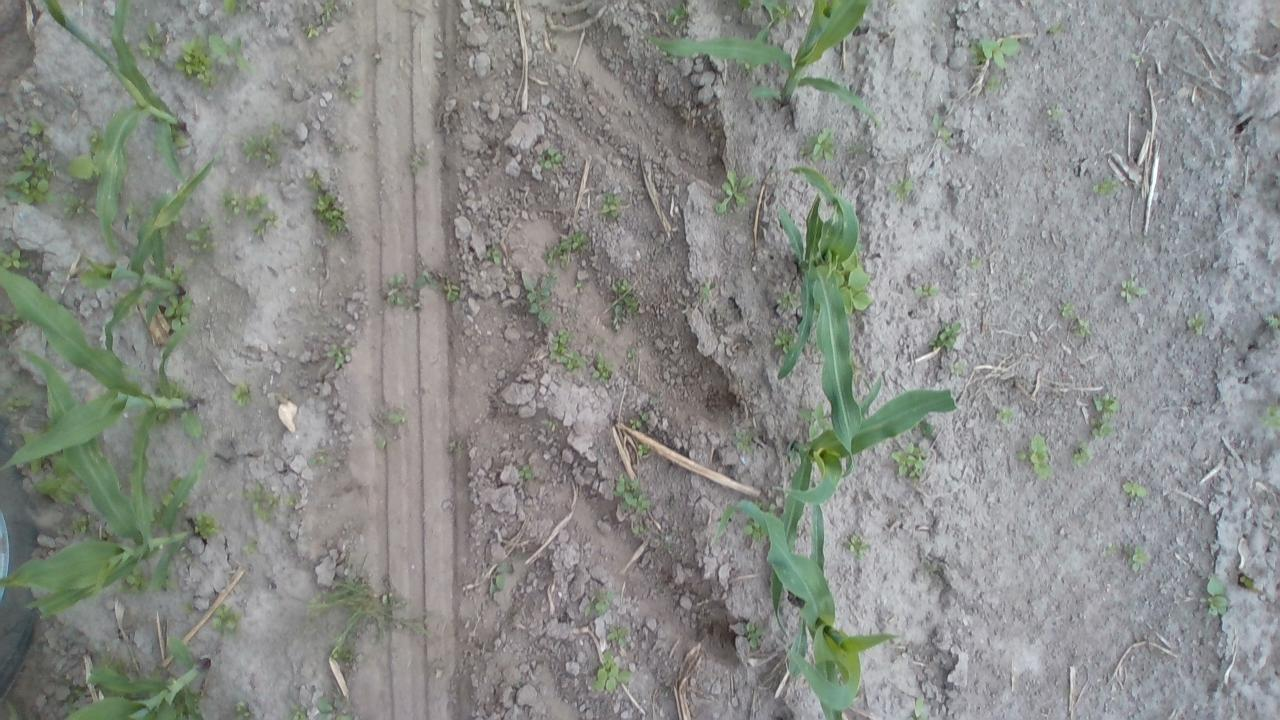Maize: (770, 266, 960, 638), (1, 268, 206, 535), (2, 346, 201, 621), (718, 499, 898, 720), (44, 0, 190, 252), (74, 157, 218, 369), (652, 0, 876, 124), (776, 166, 861, 382), (66, 640, 213, 720), (3, 699, 23, 720)
Weeds: (301, 569, 443, 666), (4, 146, 53, 209), (386, 269, 460, 308), (612, 476, 654, 534), (308, 170, 346, 231), (736, 0, 790, 42), (31, 466, 82, 510), (839, 254, 874, 316), (246, 480, 294, 524), (520, 270, 557, 327), (606, 276, 643, 332), (1018, 430, 1057, 483), (175, 38, 213, 86), (542, 230, 590, 268), (242, 122, 282, 166), (717, 170, 753, 216), (550, 328, 586, 373), (888, 440, 926, 481), (596, 650, 632, 692), (968, 36, 1018, 66), (210, 33, 248, 70), (1087, 395, 1118, 438), (138, 20, 168, 64), (374, 408, 405, 450), (805, 126, 839, 164), (66, 153, 104, 186), (798, 402, 832, 436), (184, 223, 217, 258), (581, 590, 617, 622), (1204, 572, 1229, 618), (1, 385, 34, 419), (732, 620, 765, 652), (934, 320, 967, 350), (168, 298, 194, 334), (845, 535, 876, 565), (317, 695, 354, 720), (208, 603, 238, 633), (1118, 277, 1150, 305), (1256, 396, 1280, 432), (1128, 542, 1156, 572), (192, 512, 220, 542), (991, 399, 1024, 424), (324, 344, 352, 373), (488, 560, 509, 598), (59, 194, 88, 221), (735, 427, 759, 457), (592, 352, 614, 382), (931, 111, 953, 141), (602, 193, 626, 219), (230, 382, 254, 408), (543, 146, 566, 172), (1090, 178, 1122, 196), (252, 216, 278, 238), (1182, 308, 1208, 330), (0, 310, 20, 338), (1119, 481, 1150, 499), (664, 2, 689, 24), (233, 698, 258, 720), (245, 195, 273, 214), (409, 148, 428, 176), (318, 2, 342, 24), (1070, 318, 1094, 340), (892, 176, 914, 200), (772, 327, 792, 353), (1074, 444, 1098, 465), (164, 262, 188, 283), (778, 289, 798, 314), (2, 245, 23, 268), (741, 523, 765, 542), (607, 627, 635, 642), (69, 516, 90, 536), (1043, 105, 1065, 124), (916, 283, 942, 299), (346, 82, 370, 99), (910, 695, 926, 720), (124, 574, 144, 594), (123, 200, 142, 221), (224, 191, 242, 212), (242, 538, 263, 556), (28, 117, 50, 133), (1046, 20, 1064, 39), (216, 0, 240, 14), (302, 21, 318, 41), (68, 686, 84, 705), (307, 452, 328, 466), (736, 60, 760, 72), (486, 246, 500, 266), (1058, 300, 1078, 314), (697, 284, 712, 302), (949, 362, 971, 374), (89, 129, 104, 145), (518, 463, 532, 480), (1105, 542, 1118, 560), (182, 597, 195, 615), (1238, 574, 1254, 588), (626, 417, 642, 431), (292, 706, 310, 718), (1266, 314, 1280, 328), (636, 443, 650, 457), (573, 283, 585, 298), (968, 256, 984, 267), (449, 442, 457, 454)
